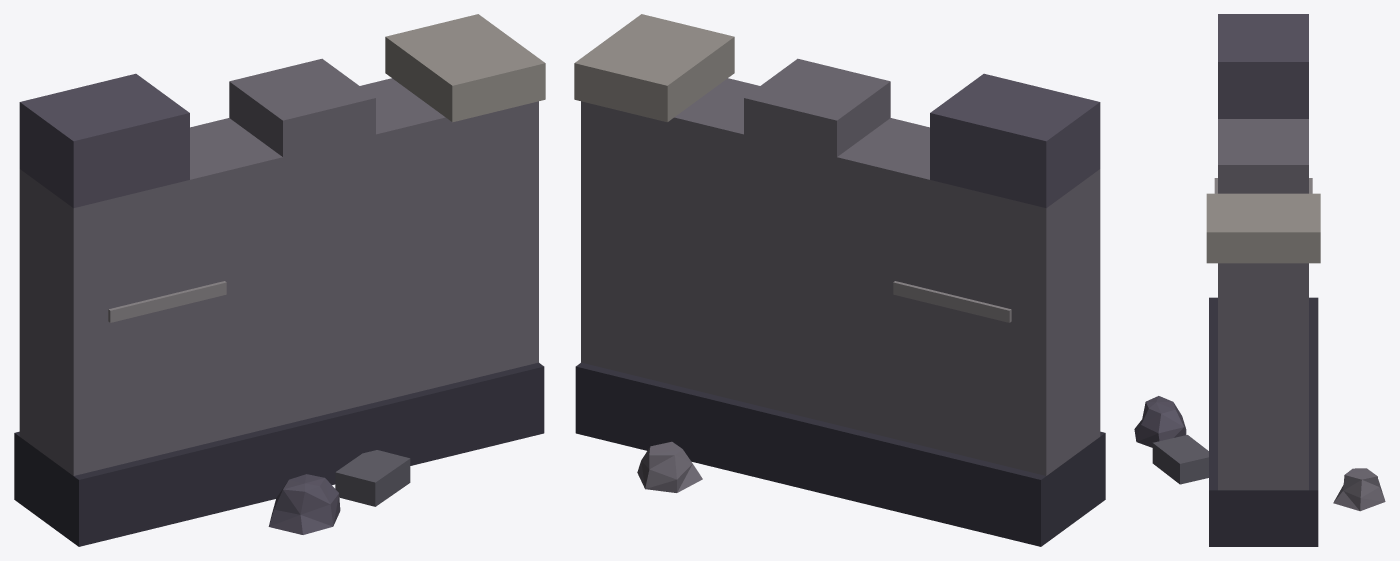
The model's file is wall_ruined_b.fbx.
3 views of the same model, side by side, from view 1: azimuth 30°, elevation 25°; view 2: azimuth 150°, elevation 25°; view 3: azimuth 270°, elevation 25° (orthographic). The views are drawn at different scales.
Visible parts, largest first — view 1: wall_ruined_b; view 2: wall_ruined_b; view 3: wall_ruined_b.
Part boxes in pixels (bbox=[...]): wall_ruined_b: bbox=[14, 14, 545, 546]; wall_ruined_b: bbox=[574, 14, 1105, 546]; wall_ruined_b: bbox=[1134, 14, 1385, 546].
Size of the model in its own units: 4 by 3.3 by 2.21.
